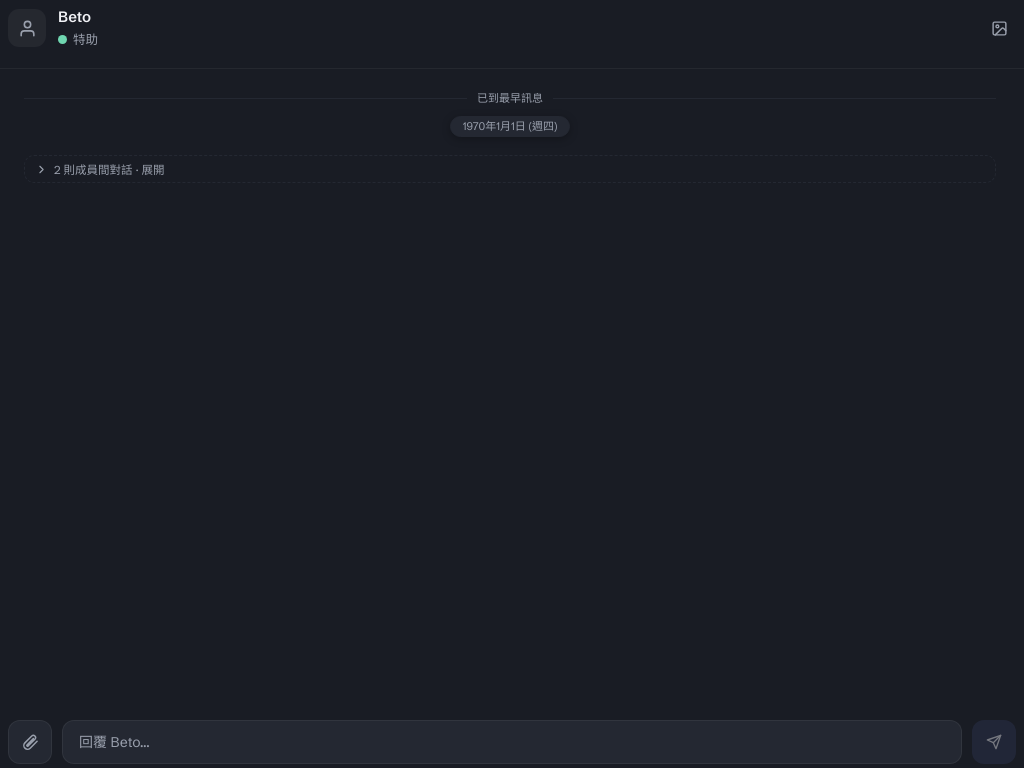
Test: ChatArea inter-agent thread › collapses an agent↔agent run by default and expands on toggle
Click the button with class "chat__inter-toggle". click: (109, 170)
box: [24,155,996,183]
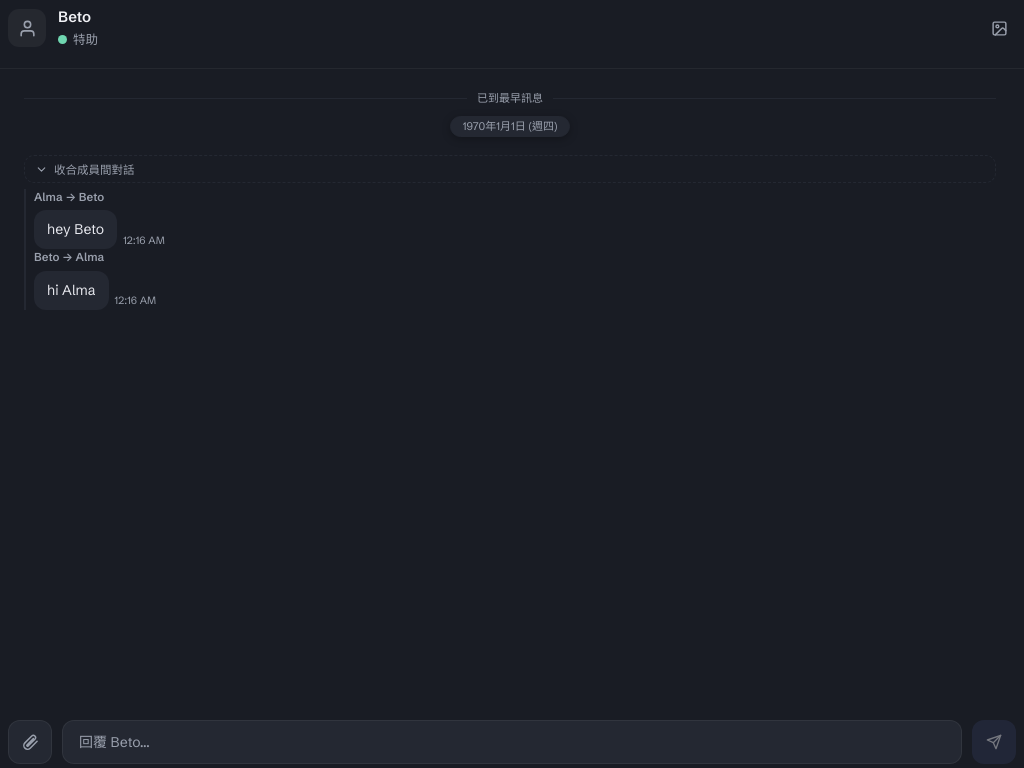
Result: the number of elements with class "chat__msg-bubble" is 2 at [34,210,117,249]; [34,271,109,310]
